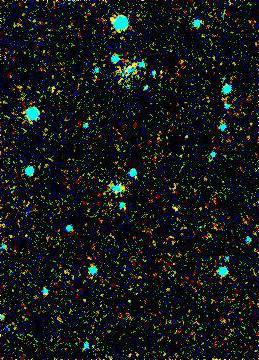star: (41, 303, 71, 333)
